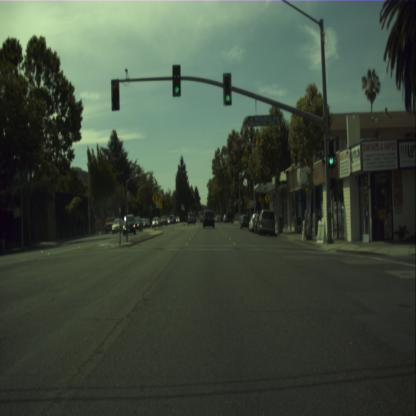Green: (223, 73, 231, 105), (172, 64, 180, 96), (328, 138, 334, 166)
RedLeft: (111, 78, 119, 110)
